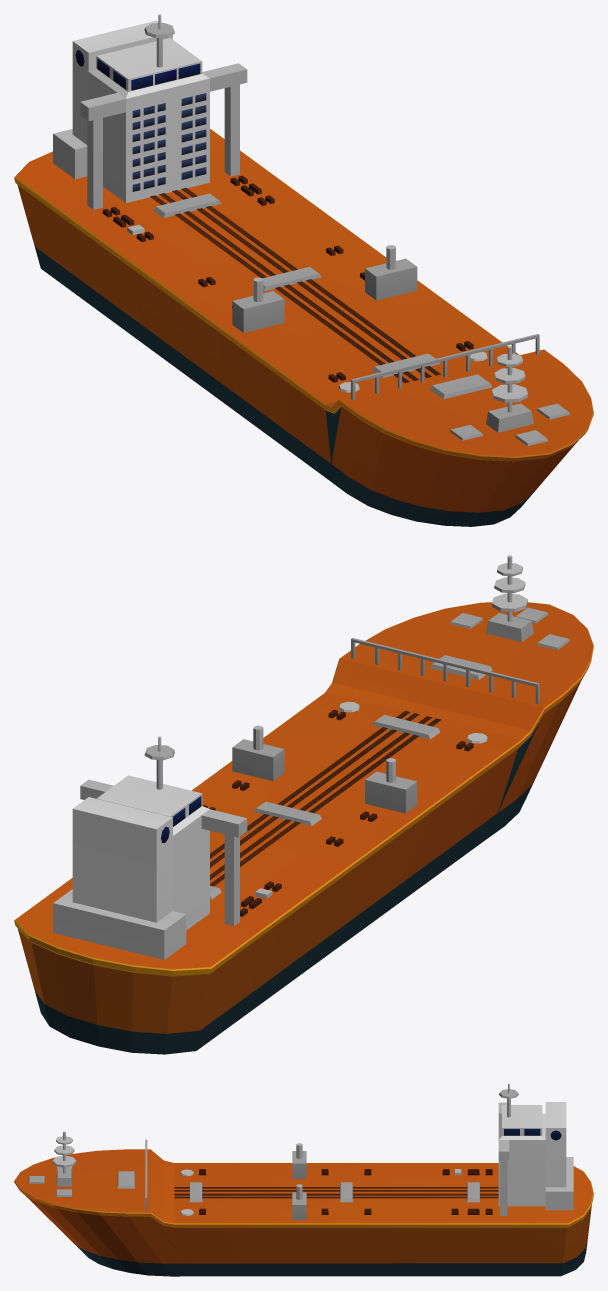
File: oil_tanker.gltf
The picture shows the model from 3 angles, top to bottom: view 1: azimuth 30°, elevation 25°; view 2: azimuth 150°, elevation 25°; view 3: azimuth 270°, elevation 25°; orthographic projection. The views are drawn at different scales.
Parts seen in each view (by area): view 1: oil_tanker; view 2: oil_tanker; view 3: oil_tanker.
Part boxes in pixels (x1,y1,x2,y2): oil_tanker: [14, 14, 593, 526]; oil_tanker: [14, 555, 593, 1054]; oil_tanker: [14, 1083, 593, 1276].
Size of the model in its own units: 1.13 by 1.39 by 4.33.
1 material, 1 textured.
